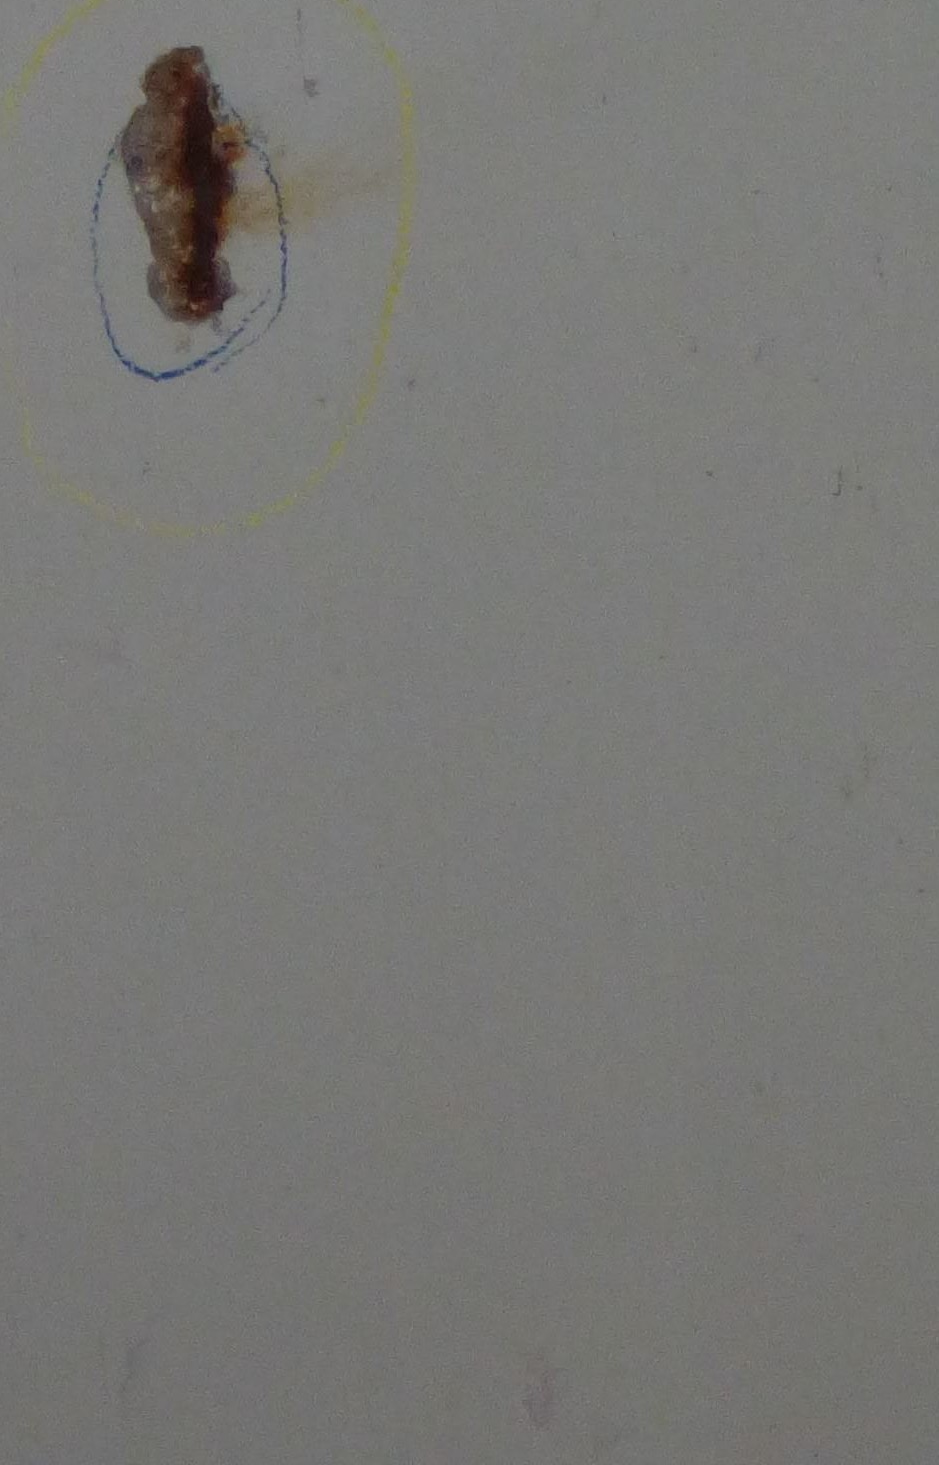Exposed reinforcement: (182, 75, 225, 302)
Spalling: (120, 45, 249, 324)
